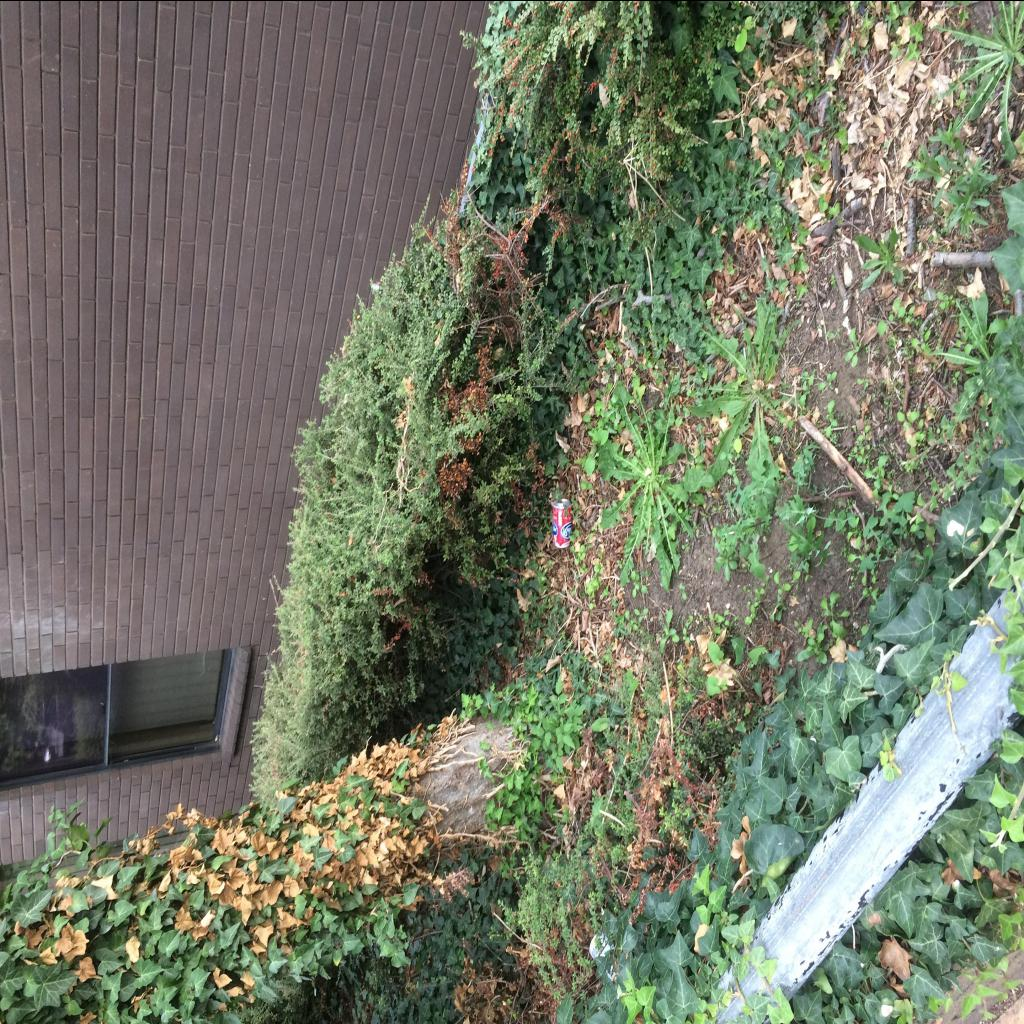Drink can: (553, 498, 572, 548)
